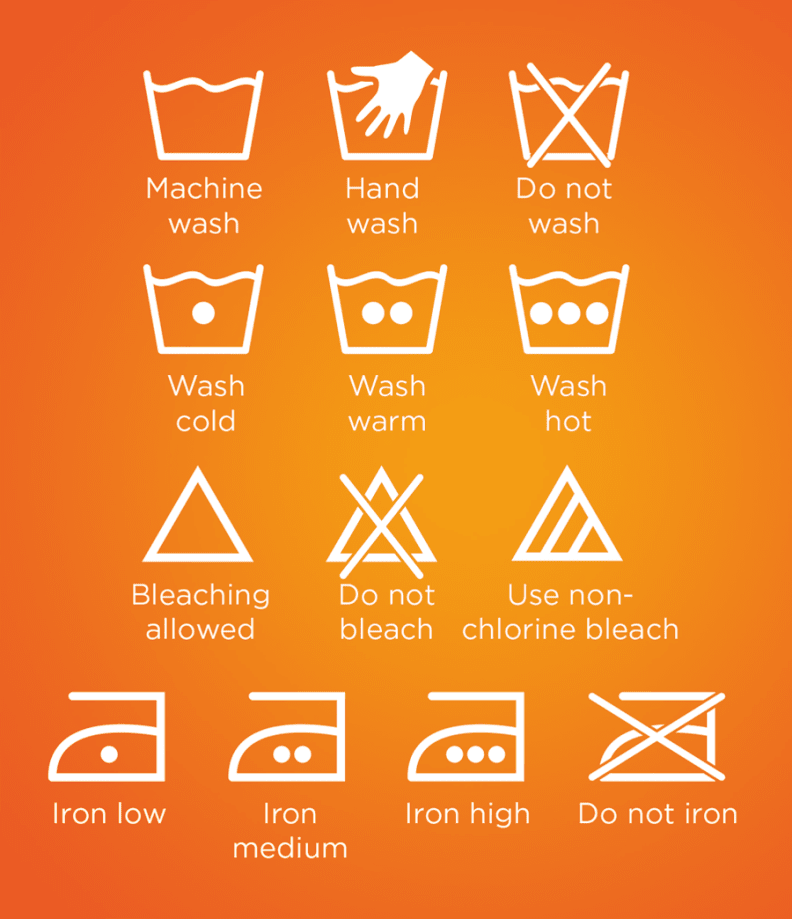do_not_bleach: (313, 465, 453, 585)
do_not_iron: (567, 681, 745, 799)
do_not_wash: (502, 57, 631, 179)
